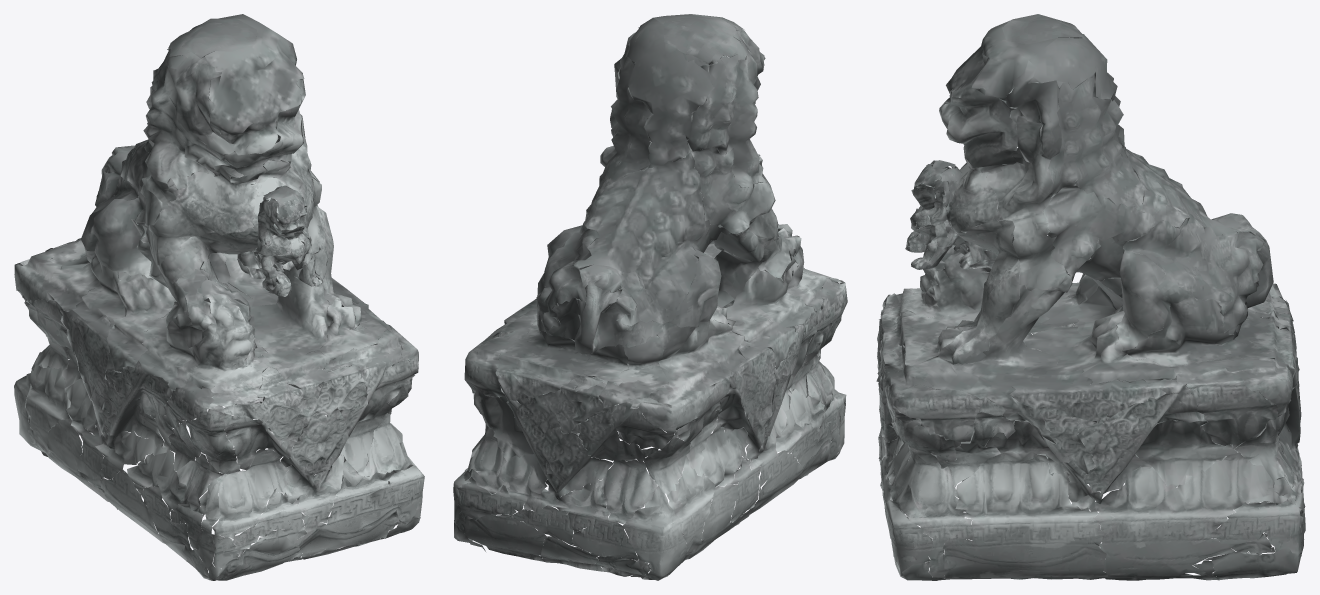
File: stone-lion-female.glb
The picture shows the model from 3 angles, left to right: view 1: azimuth 30°, elevation 25°; view 2: azimuth 150°, elevation 25°; view 3: azimuth 270°, elevation 25°; orthographic projection. The views are drawn at different scales.
Parts seen in each view (by area): view 1: LionFemale; view 2: LionFemale; view 3: LionFemale.
Part boxes in pixels (bbox=[...]): LionFemale: bbox=[14, 14, 424, 580]; LionFemale: bbox=[453, 14, 847, 580]; LionFemale: bbox=[876, 14, 1305, 580].
Size of the model in its own units: 0.5597 by 1.08 by 0.845.
Materials: 1 (1 with a texture image).
